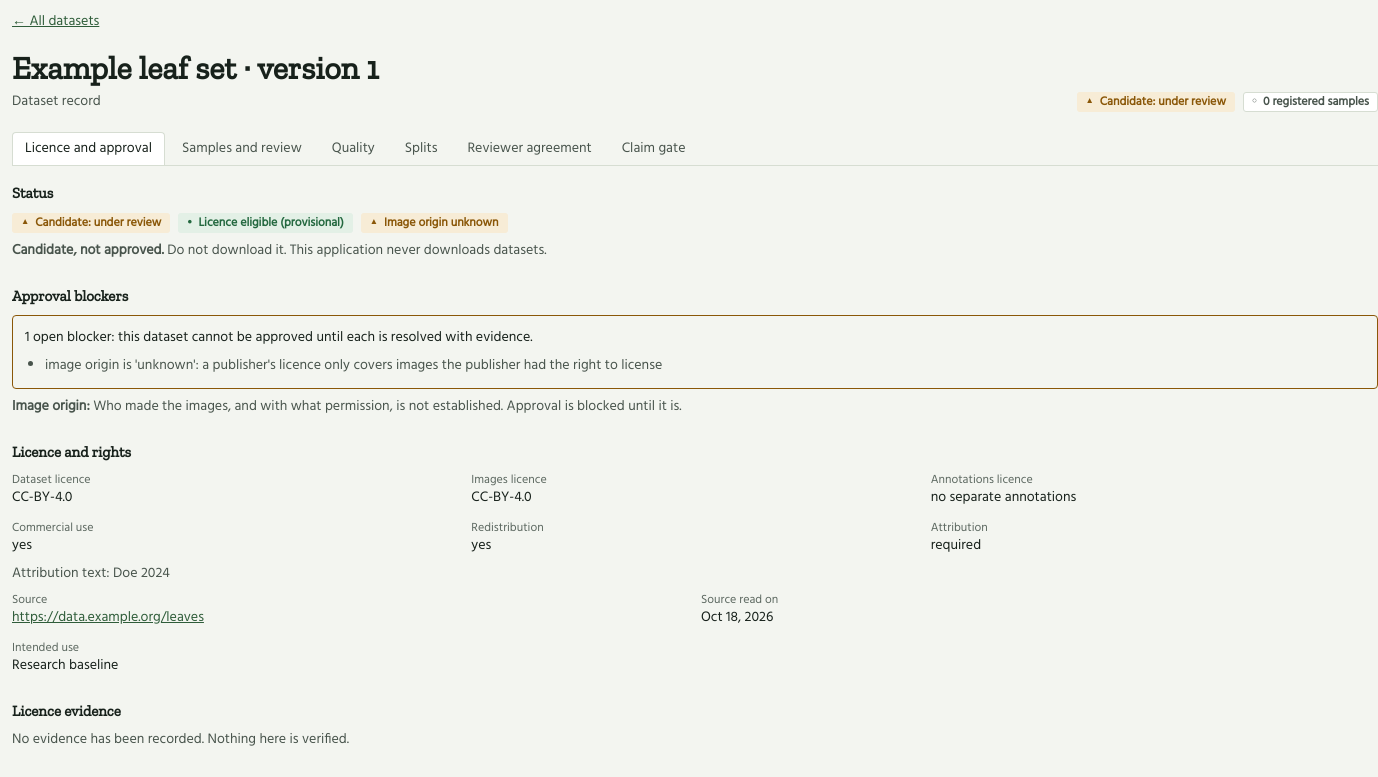
Test: dataset detail: quality, splits, agreement and claims › shows measured agreement and the disagreements
Click the tab "Reviewer agreement": click(530, 148) [454,132,605,165]
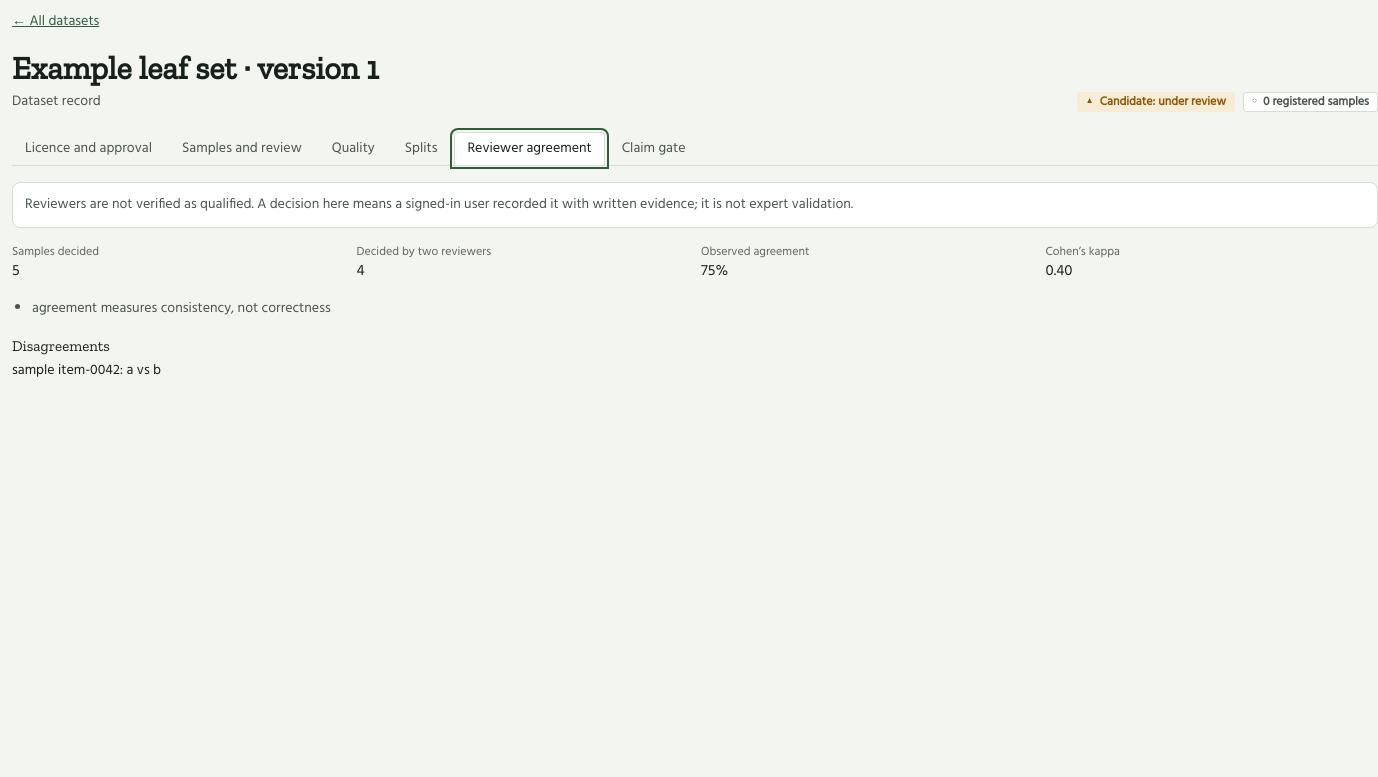
Expected: the text "0.40" is shown, [1046,259,1072,283]
Expected: the text "75%" is shown, [701,259,728,283]
Expected: the list item "agreement measures consistency, not correctness" is shown, [32,296,331,320]
